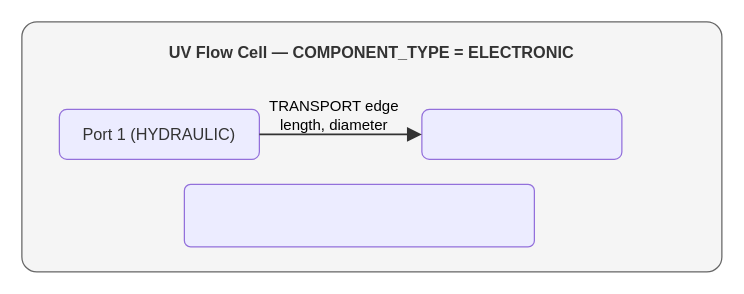
Image size: 744x294. Some labels were removed from this diagram. Each missing label, with the centre of its shape:
"Port 2 (HYDRAULIC)" belongs at point (521, 133).
"Port 3 (ELECTRONIC) reports wavelength / signal" belongs at point (358, 215).
